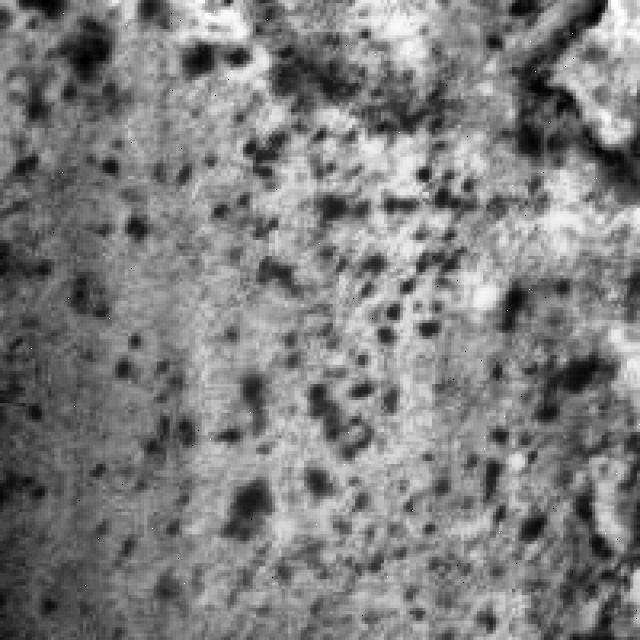Rolled_in_Scale: (38, 19, 285, 611), (208, 41, 480, 566), (384, 288, 637, 627)
Scratches: (506, 0, 630, 176)
